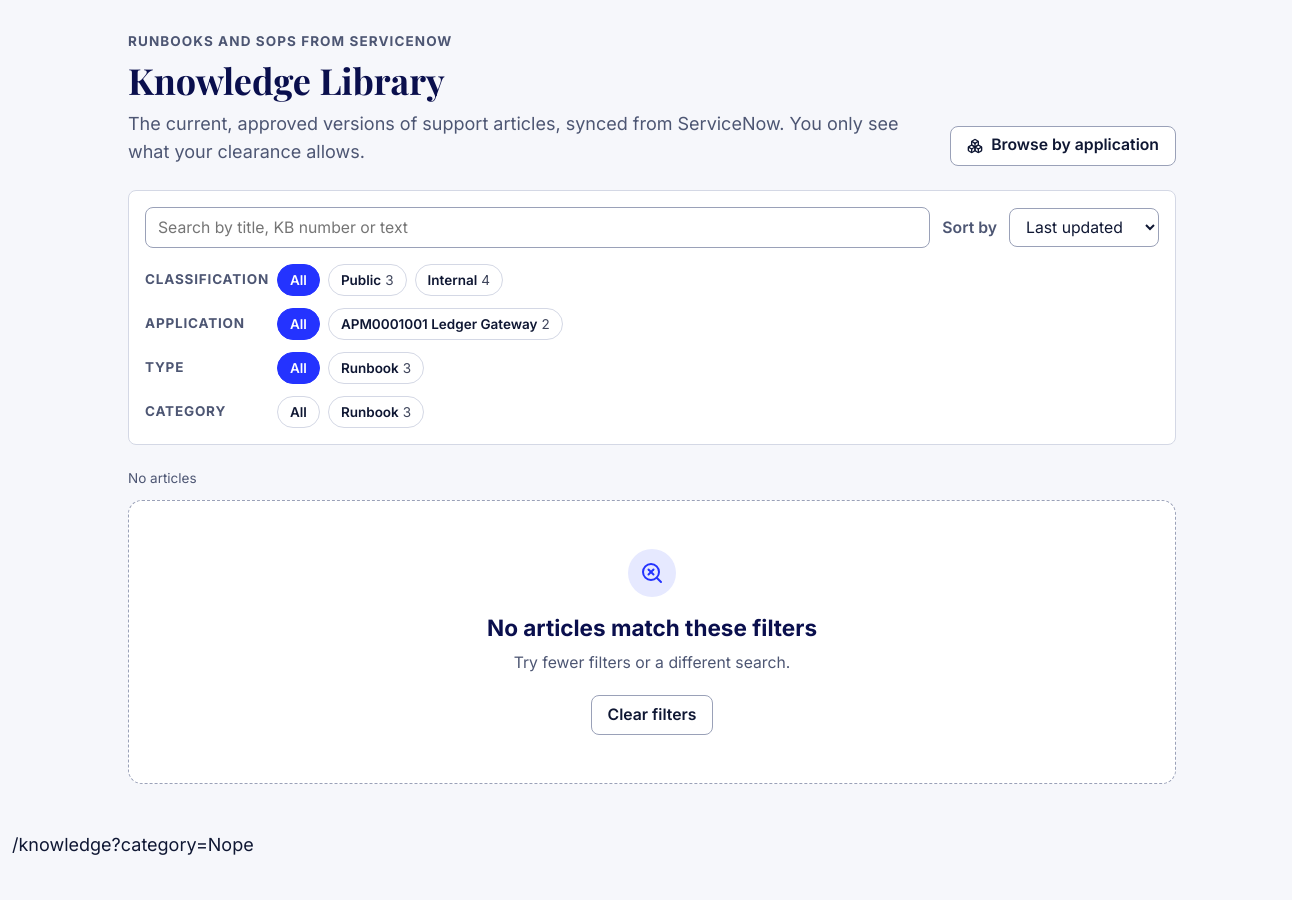
Test: knowledge library › shows the empty state with a way out when filters match nothing
Expected: the text "No articles match these filters" is shown, x1=487 y1=613 x2=817 y2=643
Click the button "Clear filters" at (652, 715), box x1=591 y1=695 x2=713 y2=735
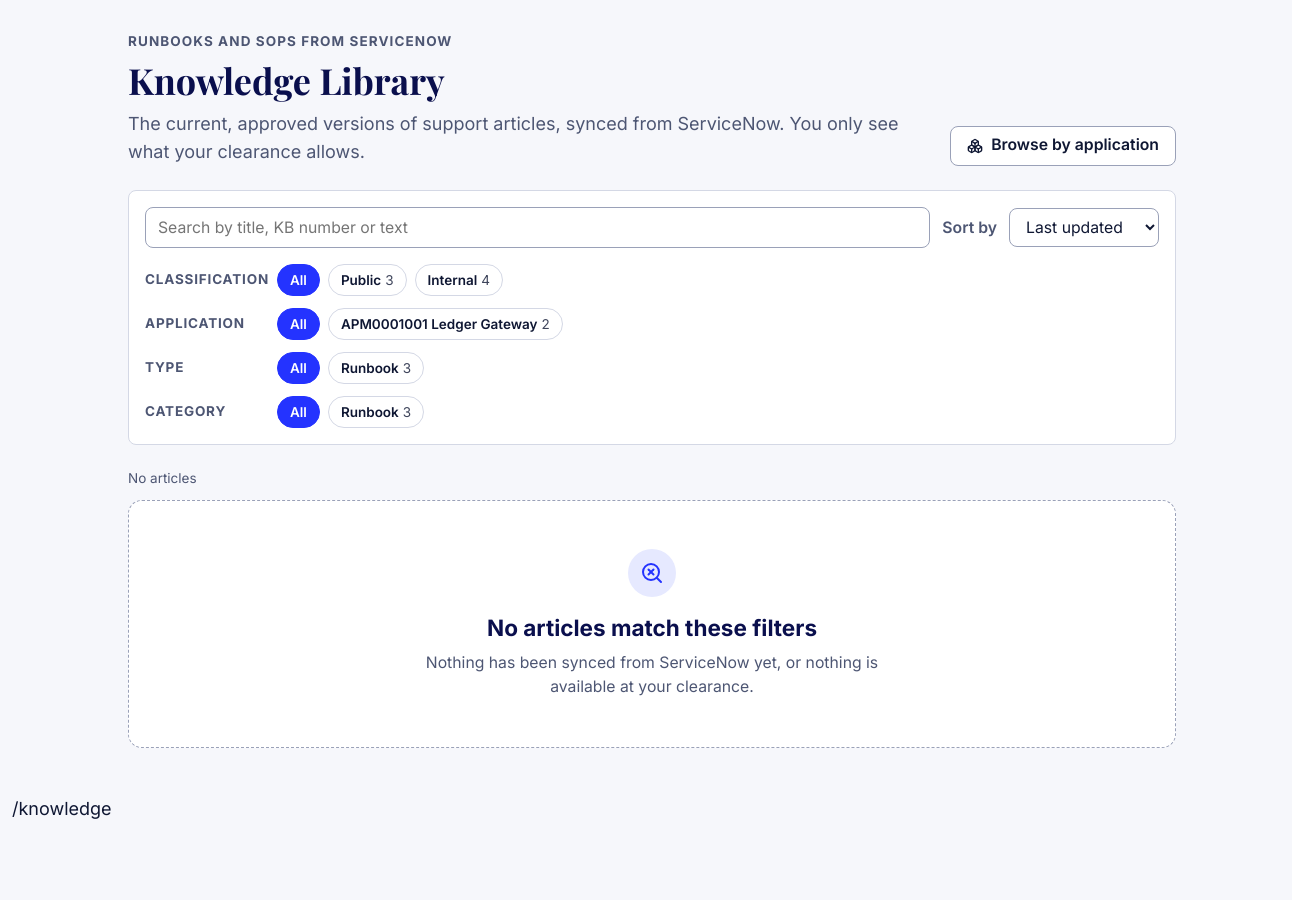
Expected: the text with test id "location" reads "/knowledge", x1=12 y1=798 x2=112 y2=819
